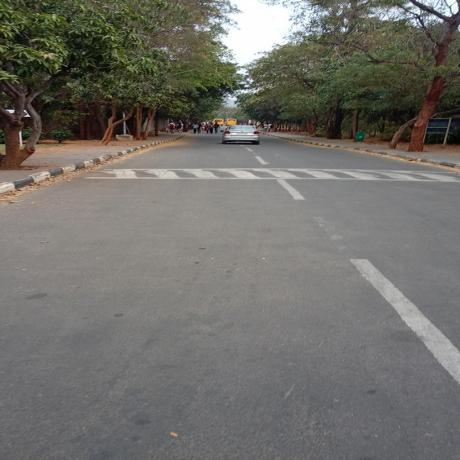Speed Bump: (76, 167, 459, 181)
